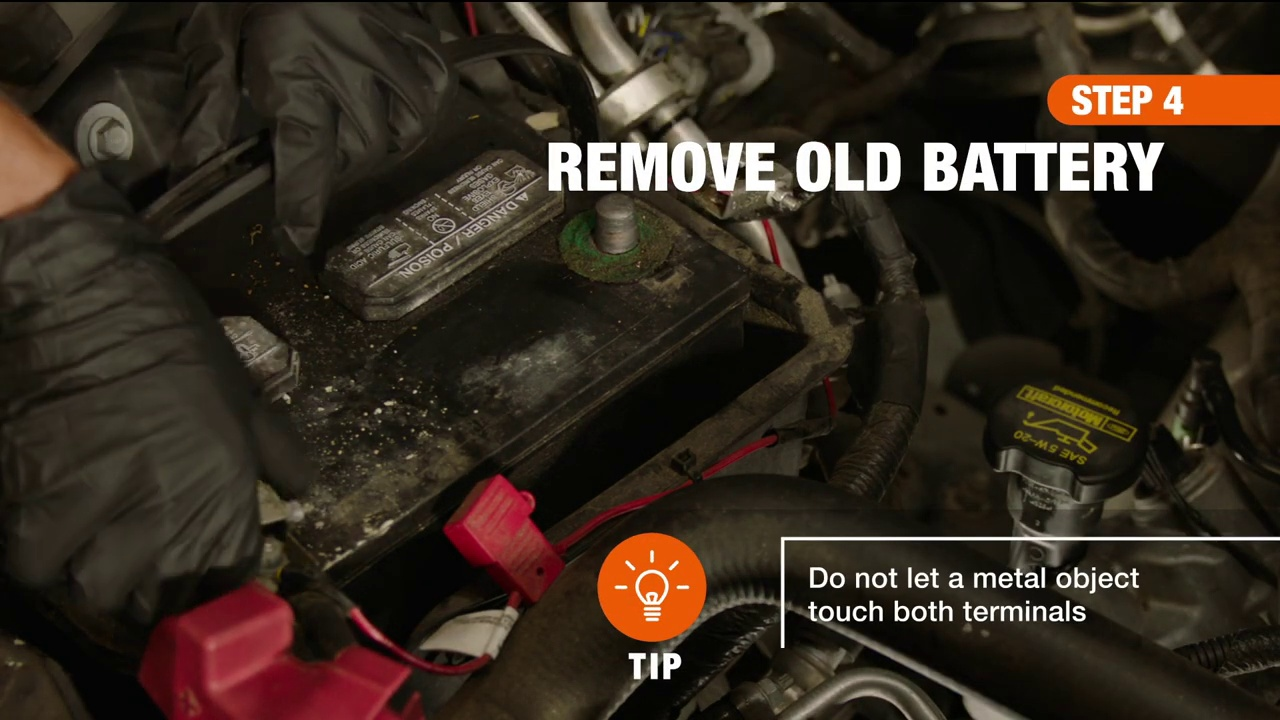battery: (17, 67, 747, 679)
neg_disconnected: (546, 177, 686, 273)
pos_touched: (112, 401, 344, 701)
